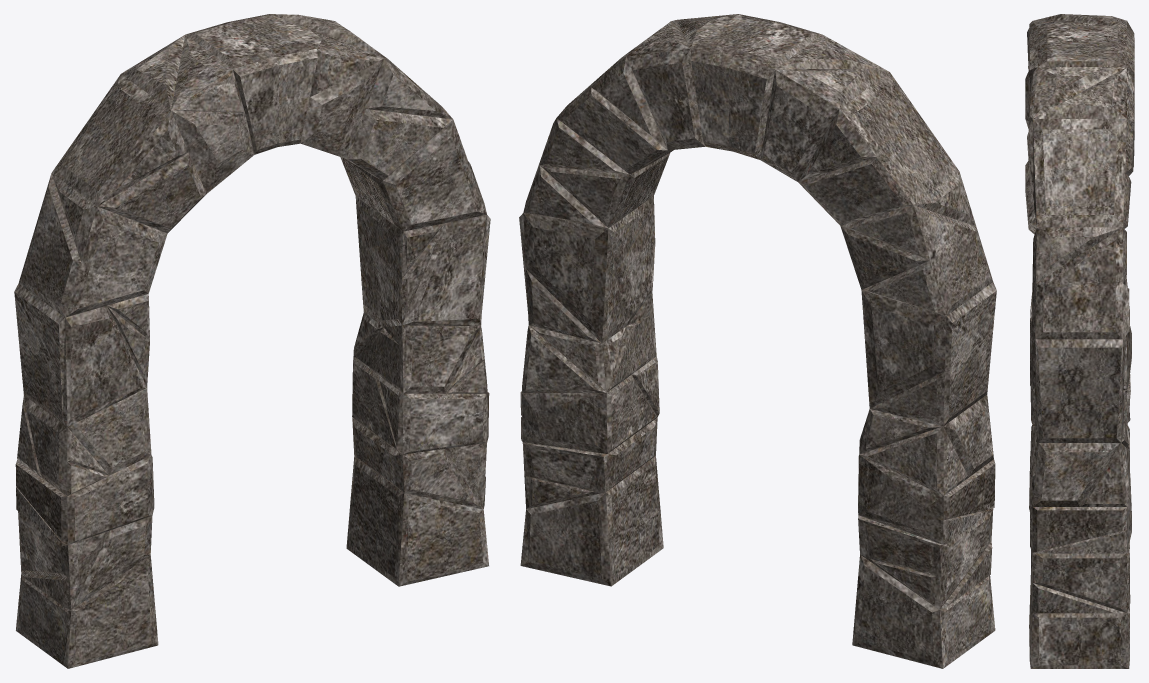
Rendered from Gate.dae.
The picture shows the model from 3 angles, left to right: view 1: azimuth 30°, elevation 25°; view 2: azimuth 150°, elevation 25°; view 3: azimuth 270°, elevation 25°; orthographic projection. The views are drawn at different scales.
Parts seen in each view (by area): view 1: Cube_Cube_003; view 2: Cube_Cube_003; view 3: Cube_Cube_003.
Boxes of the visible parts, left/top/right/bottom form: Cube_Cube_003: left=14, top=14, right=490, bottom=668; Cube_Cube_003: left=519, top=14, right=996, bottom=668; Cube_Cube_003: left=1025, top=14, right=1134, bottom=668.
Bounding box in the file's own units: 9.97 × 2.32 × 12.39.
